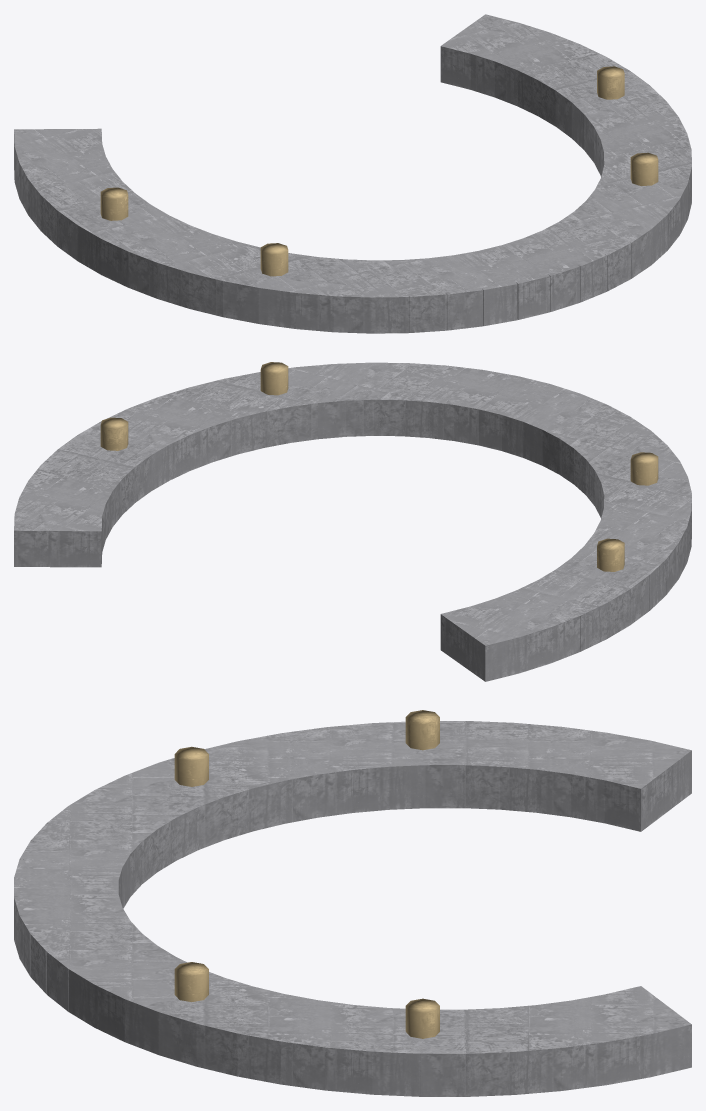
Rendered from horse.glb.
3 views of the same model, one above another, from view 1: azimuth 30°, elevation 25°; view 2: azimuth 150°, elevation 25°; view 3: azimuth 270°, elevation 25° (orthographic). The views are drawn at different scales.
Parts seen in each view (by area): view 1: horse; view 2: horse; view 3: horse.
Part boxes in pixels (<box>): horse: <box>14,14,691,333</box>; horse: <box>14,362,691,681</box>; horse: <box>14,710,691,1096</box>.
Size of the model in its own units: 0.756 by 0.0729 by 0.6505.
2 materials, 2 textured.
